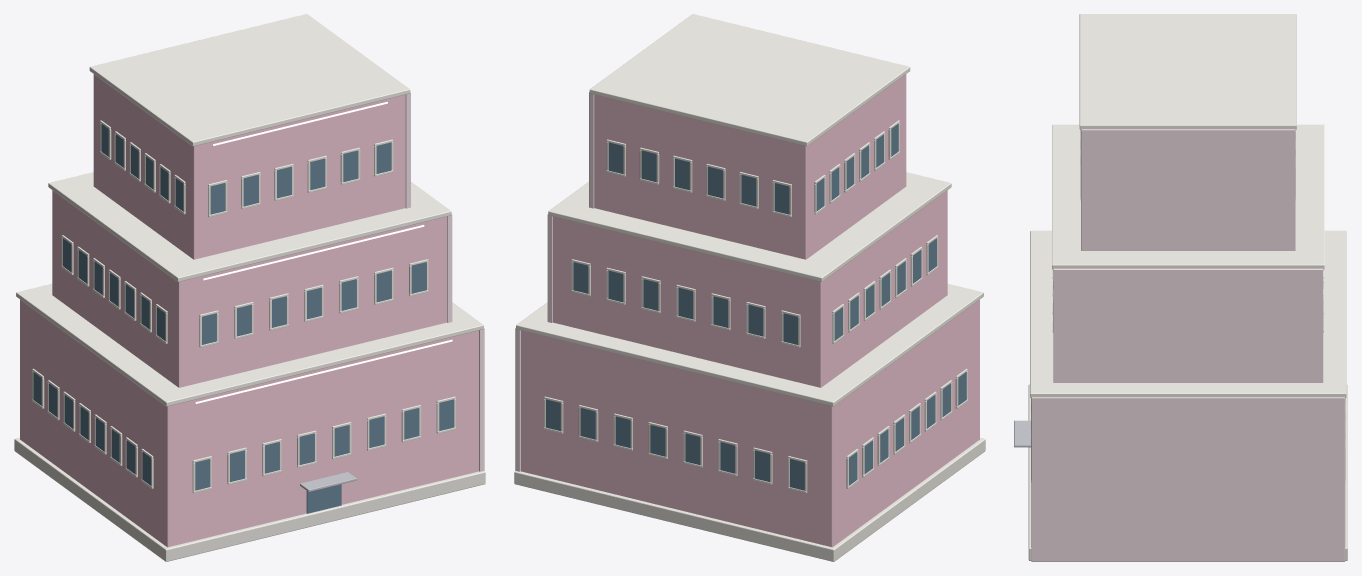
File: bldg_pink_terrace.glb
The picture shows the model from 3 angles, left to right: view 1: azimuth 30°, elevation 25°; view 2: azimuth 150°, elevation 25°; view 3: azimuth 270°, elevation 25°; orthographic projection. The views are drawn at different scales.
Visible parts, largest first — view 1: bldg_pink_terrace_band_0_wall, bldg_pink_terrace_band_1_wall, bldg_pink_terrace_band_2_wall, bldg_pink_terrace_band_2_cornice, bldg_pink_terrace_band_1_cornice, bldg_pink_terrace_band_0_cornice, bldg_pink_terrace_plinth, bldg_pink_terrace_band_0_pilaster, bldg_pink_terrace_entrance, bldg_pink_terrace_band_2_pilaster, bldg_pink_terrace_band_0_neon, bldg_pink_terrace_band_1_pilaster (+1 smaller); view 2: bldg_pink_terrace_band_0_wall, bldg_pink_terrace_band_1_wall, bldg_pink_terrace_band_2_wall, bldg_pink_terrace_band_2_cornice, bldg_pink_terrace_band_1_cornice, bldg_pink_terrace_band_0_cornice, bldg_pink_terrace_plinth, bldg_pink_terrace_band_0_pilaster, bldg_pink_terrace_band_2_pilaster, bldg_pink_terrace_band_1_pilaster; view 3: bldg_pink_terrace_band_0_pilaster, bldg_pink_terrace_band_1_pilaster, bldg_pink_terrace_band_2_pilaster, bldg_pink_terrace_band_2_cornice, bldg_pink_terrace_band_1_cornice, bldg_pink_terrace_band_0_cornice, bldg_pink_terrace_plinth, bldg_pink_terrace_canopy.
Boxes of the visible parts, x1,y1,x2,y2 form: bldg_pink_terrace_band_0_wall: (20,299,478,547); bldg_pink_terrace_band_1_wall: (52,190,446,387); bldg_pink_terrace_band_2_wall: (93,74,405,259); bldg_pink_terrace_band_2_cornice: (89,14,410,146); bldg_pink_terrace_band_1_cornice: (48,172,451,281); bldg_pink_terrace_band_0_cornice: (16,284,483,406); bldg_pink_terrace_plinth: (14,437,485,561); bldg_pink_terrace_band_0_pilaster: (479,328,484,471); bldg_pink_terrace_entrance: (306,484,341,513); bldg_pink_terrace_band_2_pilaster: (405,92,410,208); bldg_pink_terrace_band_0_neon: (195,339,452,403); bldg_pink_terrace_band_1_pilaster: (447,214,452,322); bldg_pink_terrace_band_0_wall: (521,299,979,547); bldg_pink_terrace_band_1_wall: (553,190,947,387); bldg_pink_terrace_band_2_wall: (594,74,906,259); bldg_pink_terrace_band_2_cornice: (589,14,910,146); bldg_pink_terrace_band_1_cornice: (548,172,951,281); bldg_pink_terrace_band_0_cornice: (516,284,983,406); bldg_pink_terrace_plinth: (514,437,985,561); bldg_pink_terrace_band_0_pilaster: (515,328,520,471); bldg_pink_terrace_band_2_pilaster: (589,92,594,208); bldg_pink_terrace_band_1_pilaster: (547,214,552,322); bldg_pink_terrace_band_0_pilaster: (1031,397,1345,561); bldg_pink_terrace_band_1_pilaster: (1053,268,1323,382); bldg_pink_terrace_band_2_pilaster: (1081,129,1295,250); bldg_pink_terrace_band_2_cornice: (1079,14,1296,129); bldg_pink_terrace_band_1_cornice: (1052,124,1324,269); bldg_pink_terrace_band_0_cornice: (1030,230,1346,397); bldg_pink_terrace_plinth: (1028,384,1347,560); bldg_pink_terrace_canopy: (1014,420,1030,447).
Bounding box in the file's own units: 22.51 × 26.25 × 19.35.
